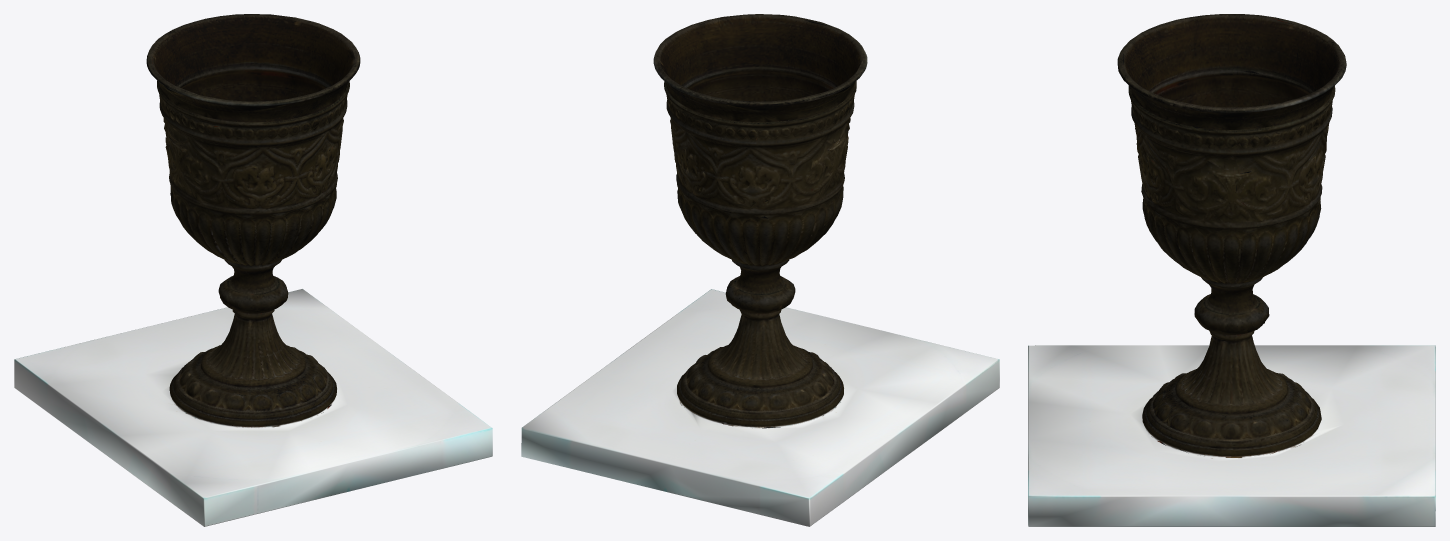
Rendered from Ornate_Golden_Goblet.fbx.
3 renders of one model, left to right at view 1: azimuth 30°, elevation 25°; view 2: azimuth 150°, elevation 25°; view 3: azimuth 270°, elevation 25°, orthographic. The views are drawn at different scales.
Parts seen in each view (by area): view 1: Ornate_Golden_Goblet_LOD0; view 2: Ornate_Golden_Goblet_LOD0; view 3: Ornate_Golden_Goblet_LOD0.
Boxes of the visible parts, x1,y1,x2,y2 form: Ornate_Golden_Goblet_LOD0: (14, 14, 492, 526); Ornate_Golden_Goblet_LOD0: (521, 14, 999, 526); Ornate_Golden_Goblet_LOD0: (1028, 14, 1435, 526).
Size of what is drawn, in the model's own units: 1.58 by 1.9 by 1.8.
Materials: 1 (1 with a texture image).
